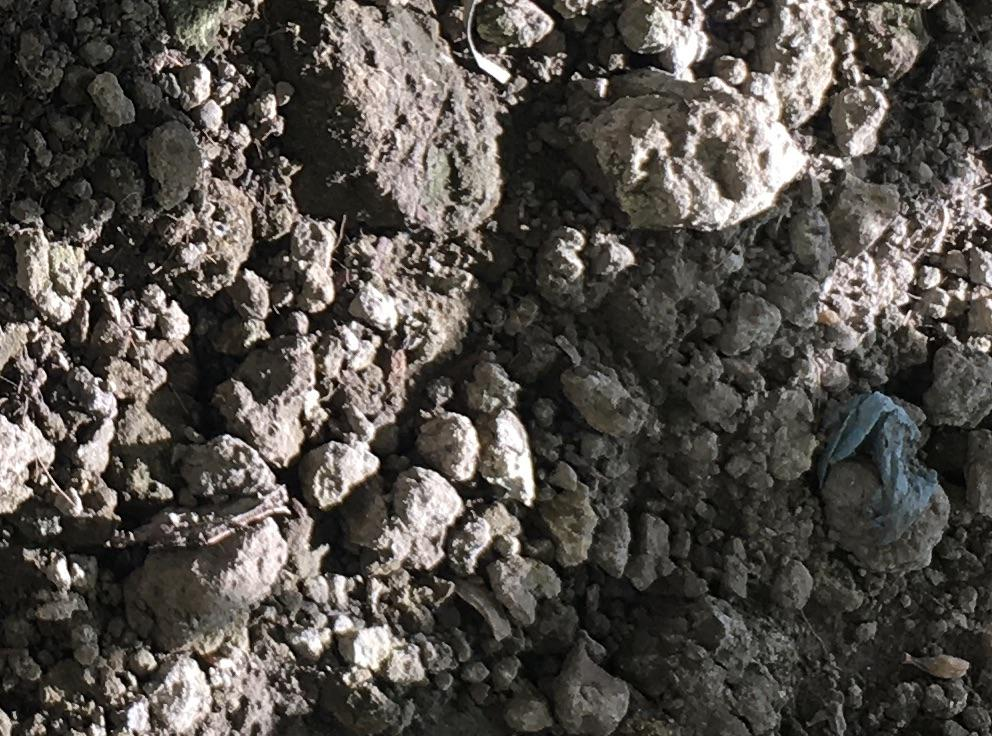block: (557, 66, 805, 230), (125, 498, 289, 654)
